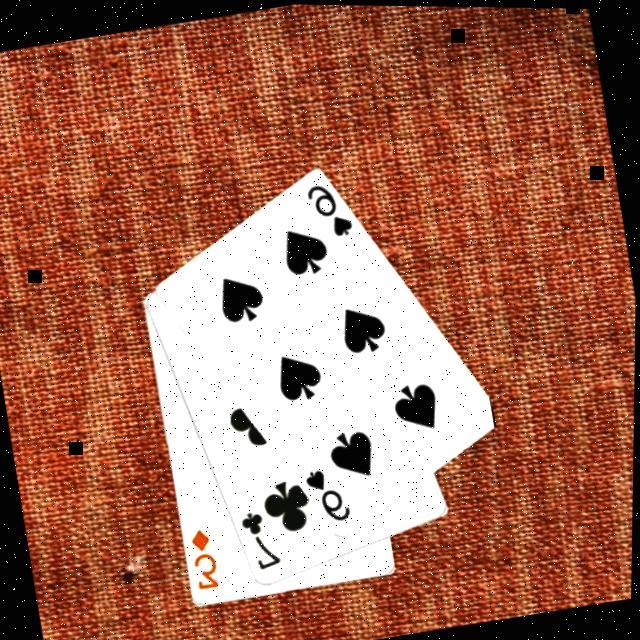3D: (182, 523, 222, 592)
6S: (298, 174, 356, 243), (298, 461, 356, 528)
7C: (234, 503, 284, 574)
